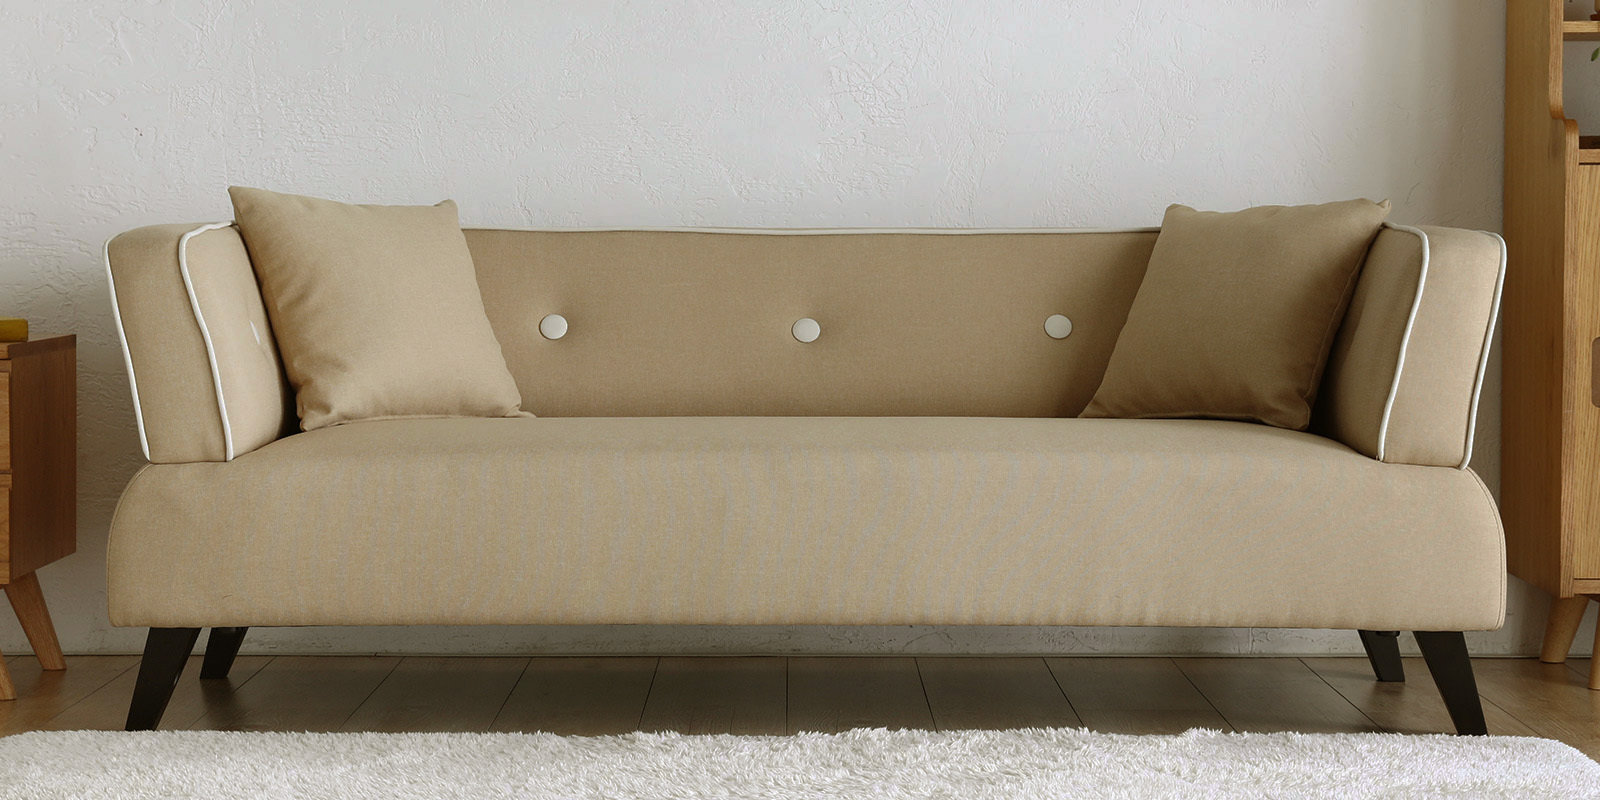Dime Three Seater Sofa in Beige Colour by Zofa: (97, 169, 1541, 740)
